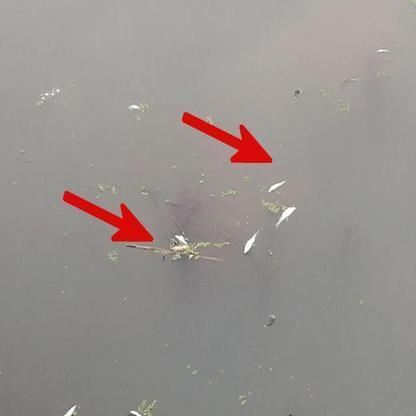deceased fish: (276, 204, 298, 226), (241, 229, 259, 255)
